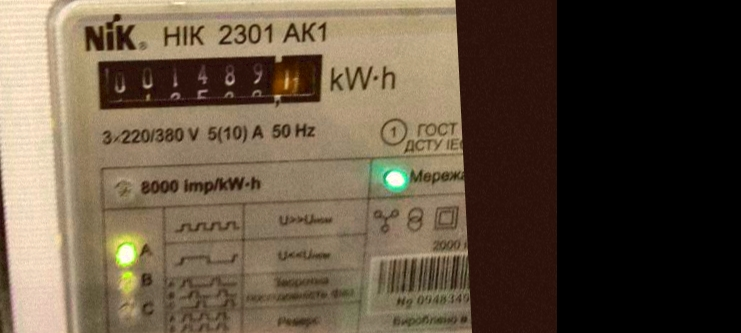0: (137, 63, 154, 89), (110, 69, 126, 95)
1: (166, 61, 181, 91), (278, 62, 292, 92)
4: (193, 61, 210, 87)
8: (219, 59, 237, 87)
9: (248, 60, 264, 86)
screen: (80, 38, 340, 127)
